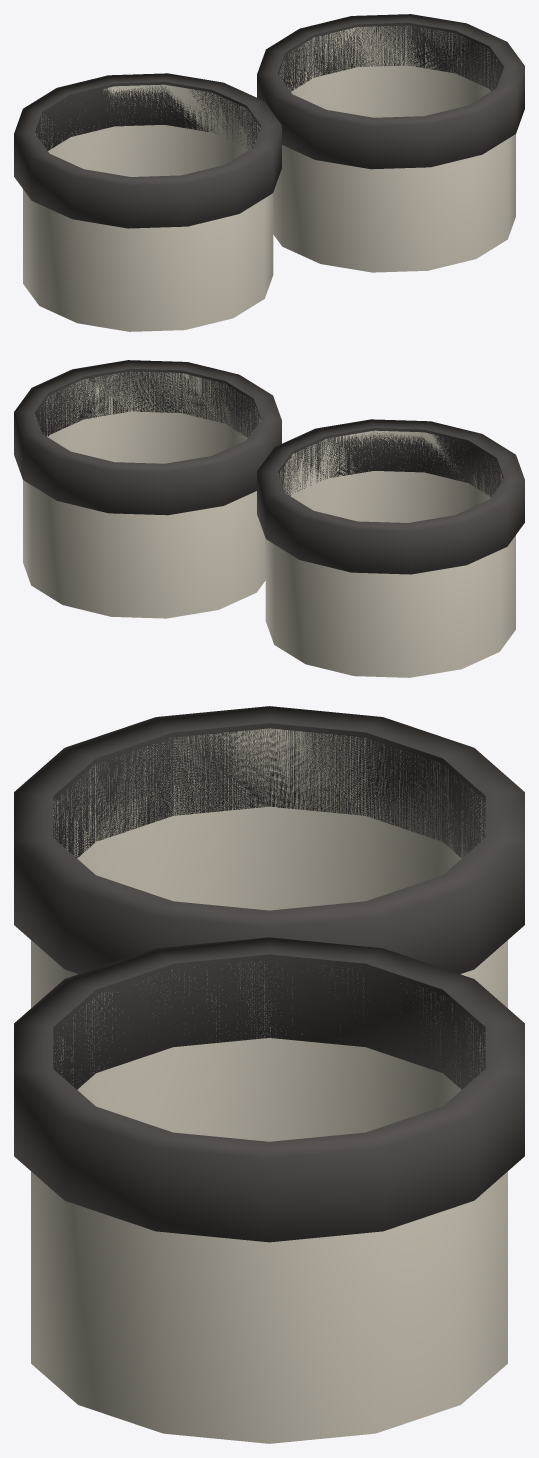
The model's file is country_socks.glb.
The picture shows the model from 3 angles, top to bottom: view 1: azimuth 30°, elevation 25°; view 2: azimuth 150°, elevation 25°; view 3: azimuth 270°, elevation 25°; orthographic projection. The views are drawn at different scales.
Visible parts, largest first — view 1: country_socks_LegL, country_socks_LegR; view 2: country_socks_LegL, country_socks_LegR; view 3: country_socks_LegR, country_socks_LegL.
Part boxes in pixels (<box>): country_socks_LegL: <box>14,73,281,331</box>; country_socks_LegR: <box>257,14,524,272</box>; country_socks_LegL: <box>257,419,524,677</box>; country_socks_LegR: <box>14,360,281,618</box>; country_socks_LegR: <box>14,937,524,1443</box>; country_socks_LegL: <box>14,706,524,1007</box>.
Size of the model in its own units: 0.372 by 0.112 by 0.1774.
